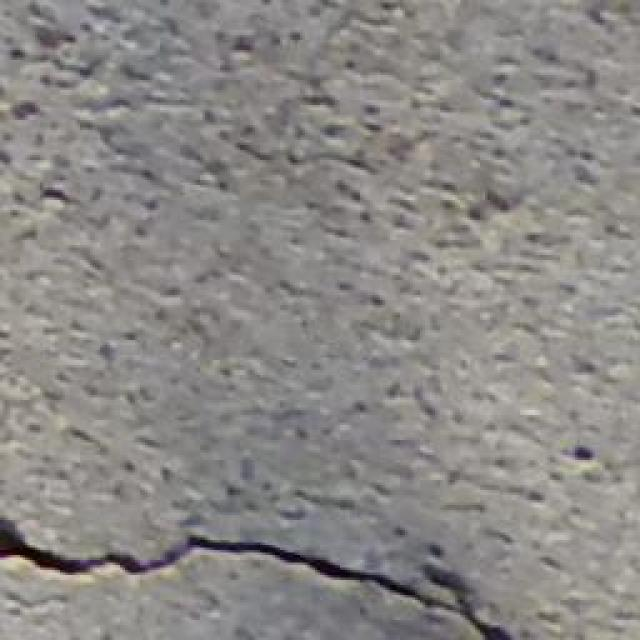concrete-crack: (0, 513, 527, 640)
